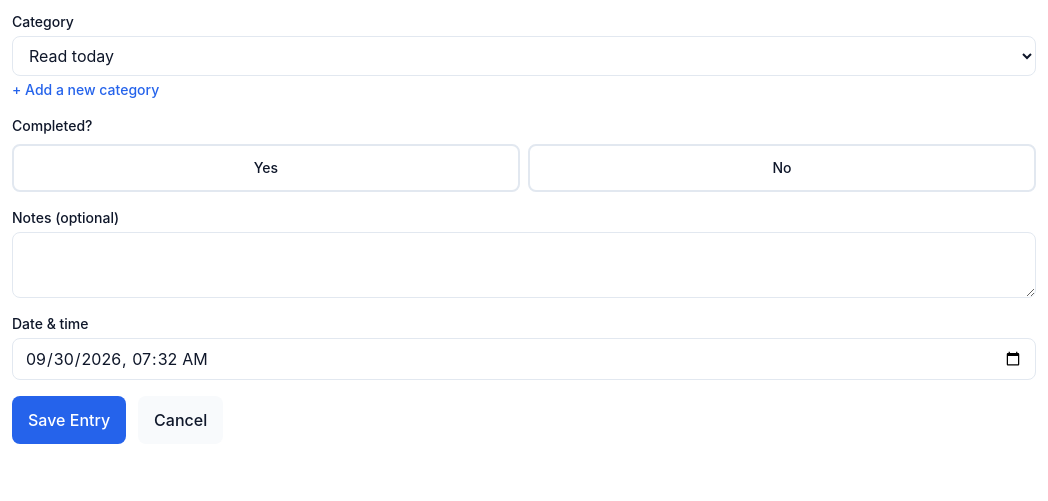
Scenario: CategoryEntryForm › requires a Yes/No choice before submitting a boolean category
Click the button "Save Entry" at coordinates (69, 420), box [12, 396, 126, 444]
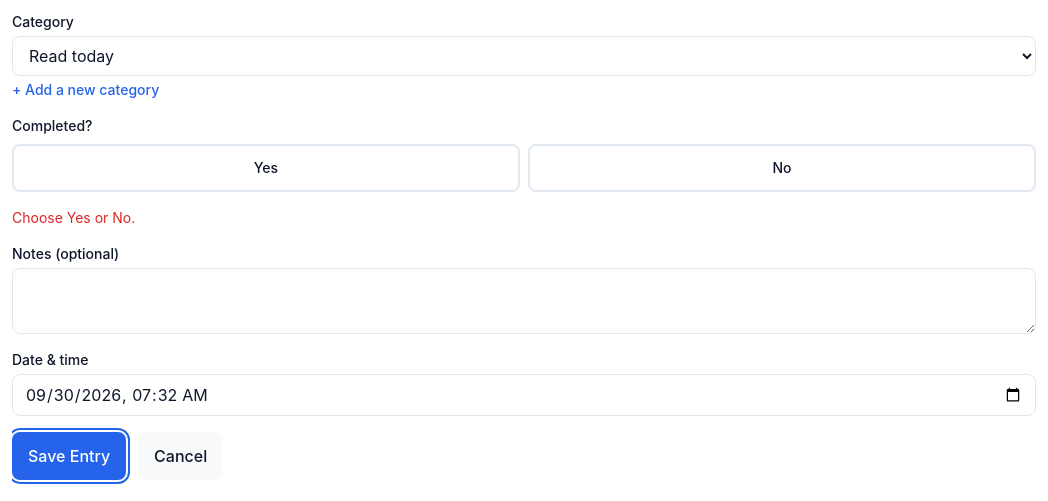
expect the text "Choose Yes or No." is shown: met, box [12, 209, 135, 226]
